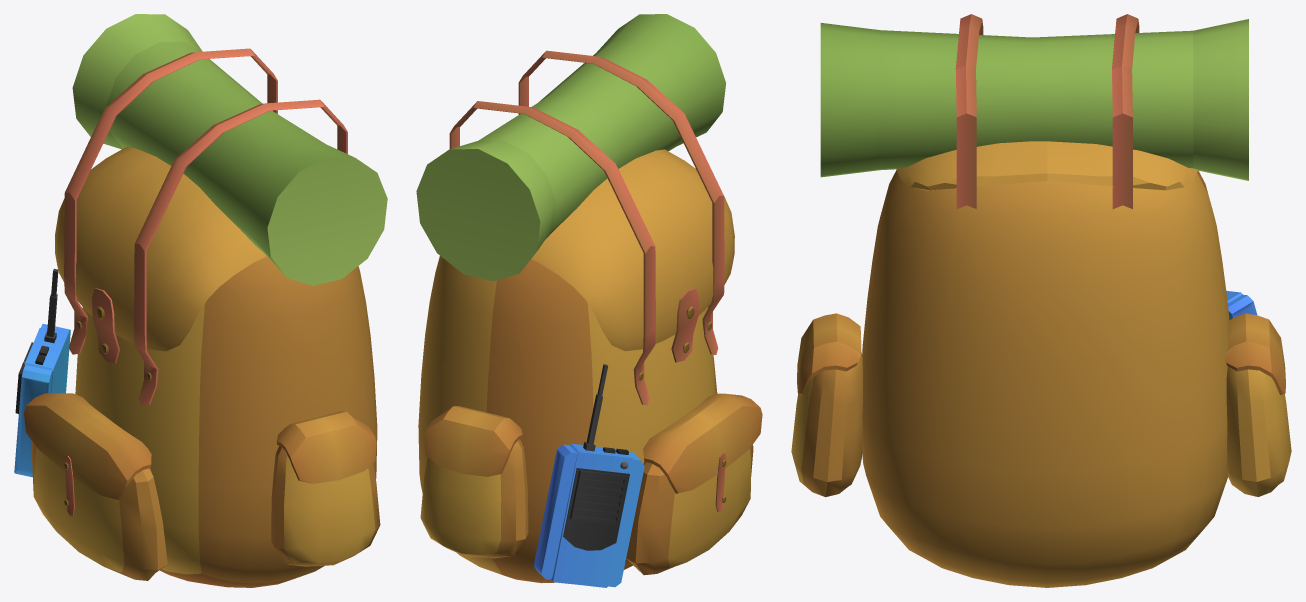
Rendered from Backpack_and_WalkieTalkie.fbx.
3 views of the same model, side by side, from view 1: azimuth 30°, elevation 25°; view 2: azimuth 150°, elevation 25°; view 3: azimuth 270°, elevation 25° (orthographic). The views are drawn at different scales.
Visible parts, largest first — view 1: Cube, Quadsphere.006; view 2: Cube, Quadsphere.006; view 3: Cube.
Boxes of the visible parts, <box> form: Cube: <box>24,14,387,587</box>; Quadsphere.006: <box>14,268,70,477</box>; Cube: <box>416,14,762,583</box>; Quadsphere.006: <box>533,364,644,587</box>; Cube: <box>791,14,1291,587</box>.
Bounding box in the file's own units: 145 × 237 × 199.
2 materials, 2 textured.
